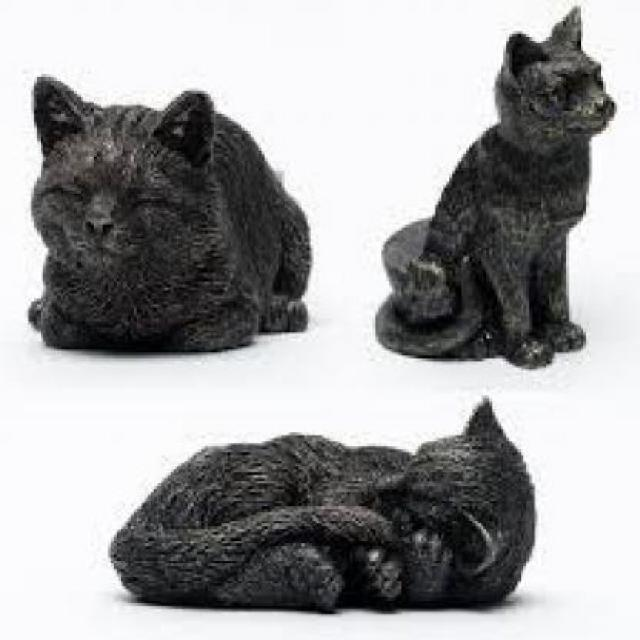animals: (91, 396, 535, 612), (368, 5, 617, 364), (14, 62, 315, 347)
